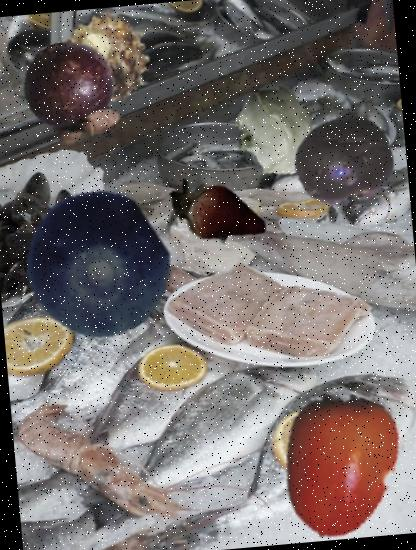Huckleberry: (18, 186, 176, 344)
Kaki: (258, 388, 415, 544)
Kohlrabi: (224, 82, 324, 182)
Mangostan: (13, 35, 134, 158)
Passion: (288, 106, 399, 217)
Pineapple: (57, 8, 160, 111)
Strawberry: (168, 159, 268, 260)
